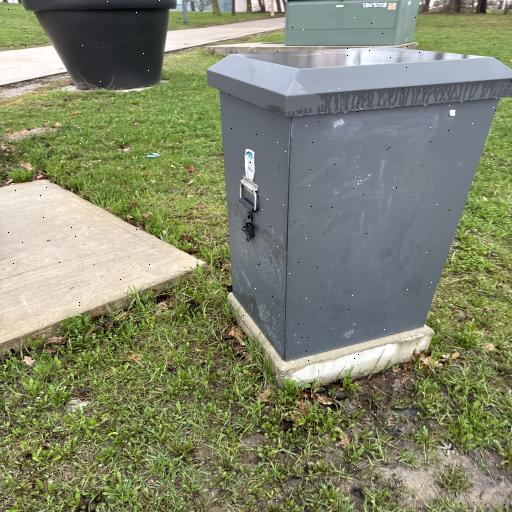Electrical Box: (204, 48, 510, 389), (272, 0, 427, 50)
